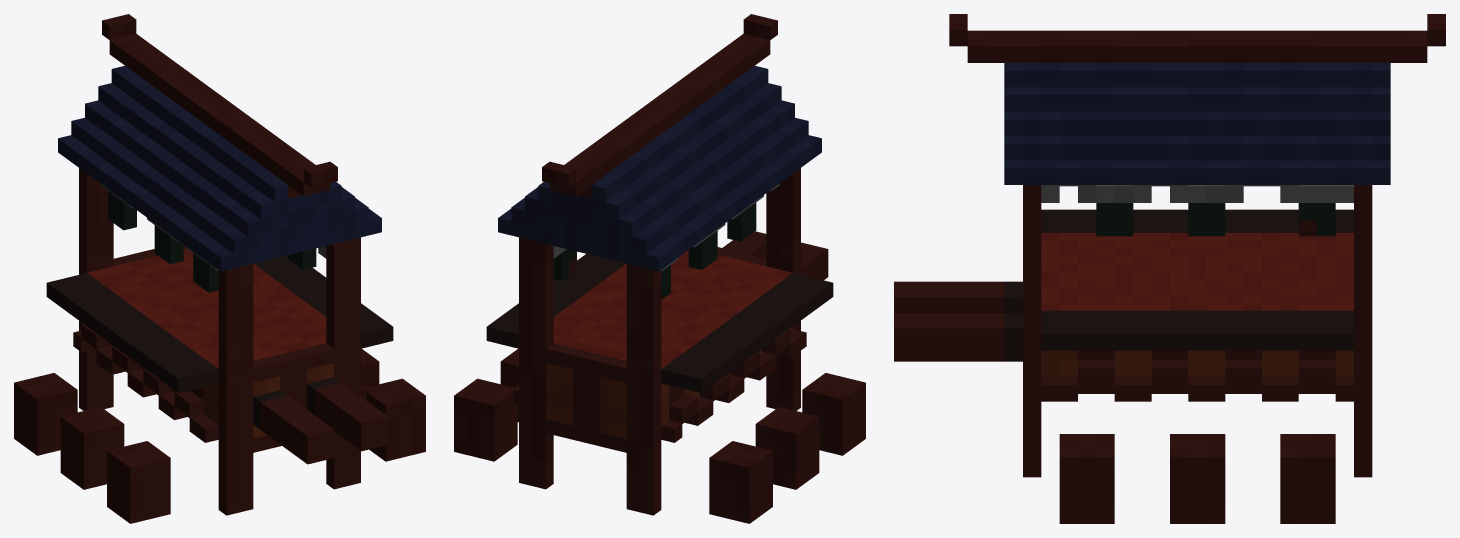
Rendered from stand.obj.
3 renders of one model, left to right at view 1: azimuth 30°, elevation 25°; view 2: azimuth 150°, elevation 25°; view 3: azimuth 270°, elevation 25°, orthographic. The views are drawn at different scales.
Bounding box in the file's own units: 2.2 × 2.5 × 3.
Materials: 1 (1 with a texture image).
